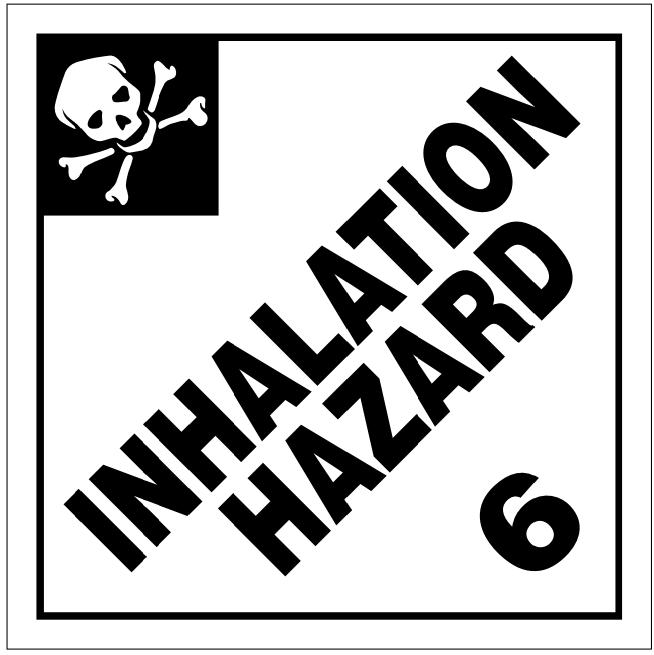poison: (1, 1, 654, 655)
